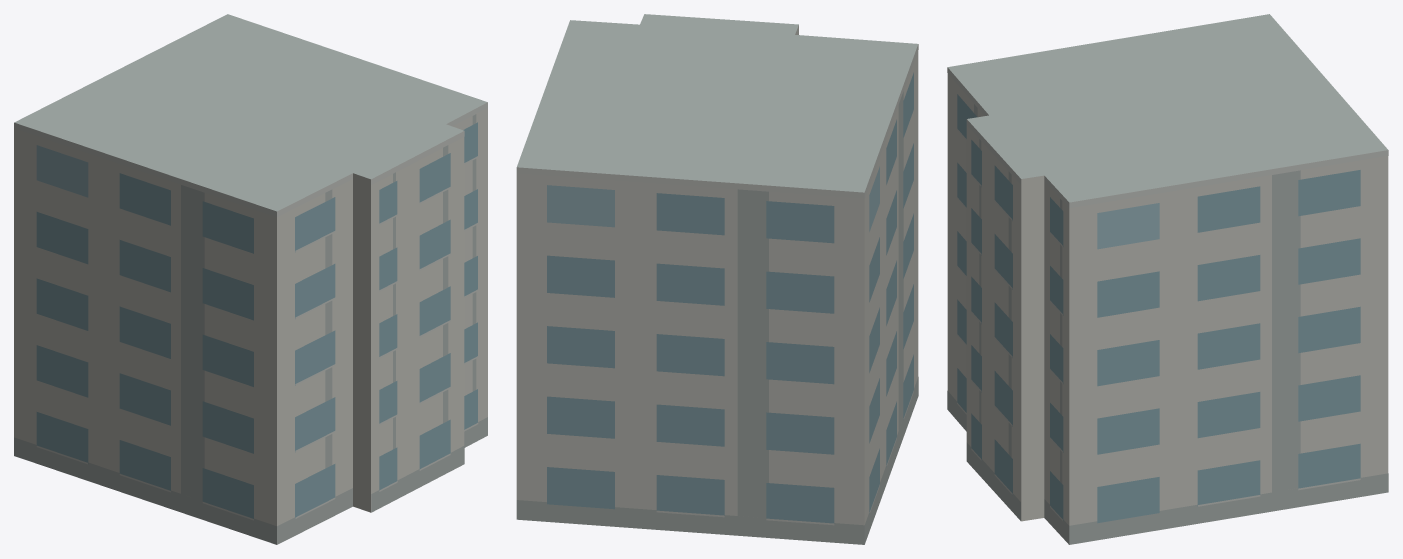
The model's file is survey-upis-33038202.glb.
The picture shows the model from 3 angles, left to right: view 1: azimuth 30°, elevation 25°; view 2: azimuth 150°, elevation 25°; view 3: azimuth 270°, elevation 25°; orthographic projection. The views are drawn at different scales.
Parts seen in each view (by area): view 1: survey-upis-33038202.tmp; view 2: survey-upis-33038202.tmp; view 3: survey-upis-33038202.tmp.
Part boxes in pixels (<box>): survey-upis-33038202.tmp: <box>14,14,487,544</box>; survey-upis-33038202.tmp: <box>516,14,918,544</box>; survey-upis-33038202.tmp: <box>947,14,1388,544</box>.
Bounding box in the file's own units: 16.78 × 14.2 × 16.59.
